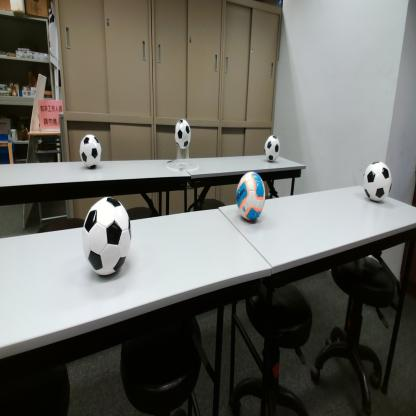ball: (82, 196, 132, 278), (237, 172, 265, 221), (363, 161, 393, 203), (80, 134, 102, 170), (175, 119, 191, 149), (264, 135, 281, 162)
